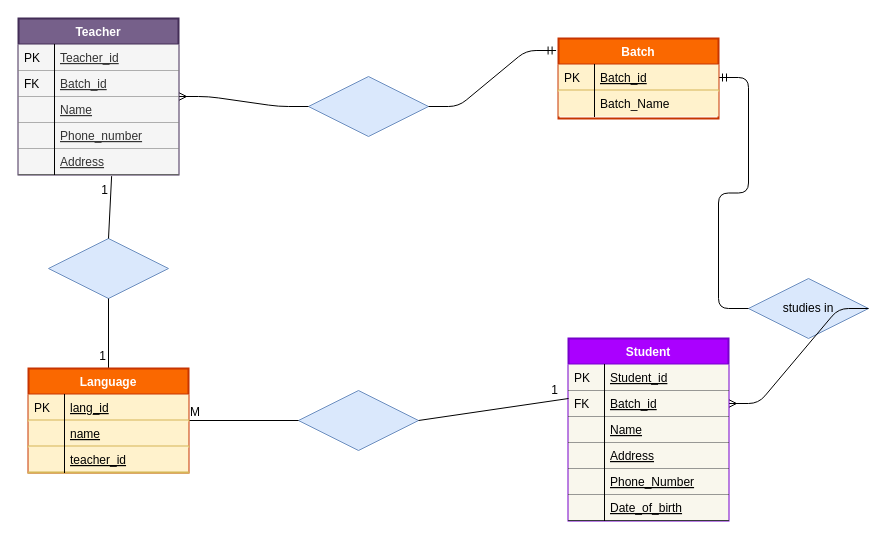
The diagram is 894 pixels wide and 540 high, and some of its shapes have lost their labels. The shapes that lost their labels are listed below. From the top down, each one's box as (x1, y1, x2, y2) in pixels, then its label:
(308, 76, 428, 136): has
(48, 238, 168, 298): teaches
(298, 390, 418, 450): learns
